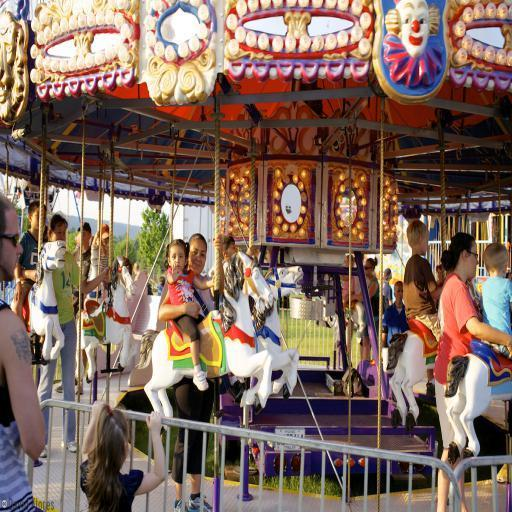horse: (135, 261, 305, 402), (442, 338, 512, 466), (75, 253, 137, 385), (9, 242, 67, 366), (388, 329, 438, 438), (317, 300, 368, 348)
